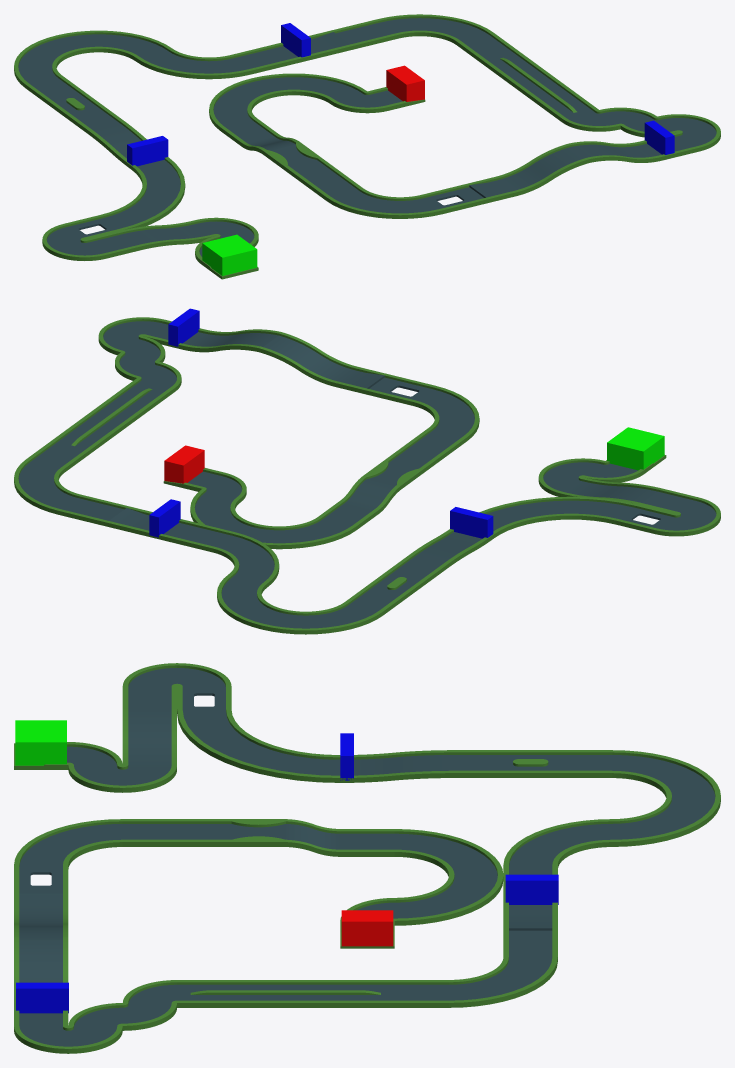
File: track1.glb
3 renders of one model, top to bottom at view 1: azimuth 30°, elevation 25°; view 2: azimuth 150°, elevation 25°; view 3: azimuth 270°, elevation 25°, orthographic. The views are drawn at different scales.
Visible parts, largest first — view 1: bend_large (×7), straight (×11), bend (×8), slope_smoothD_long (×2), bend_larger%, checkpoint_block (×3), straight_slope (×2), straight_mid (×2), straight_midEnd (×2), start_block, slope_smoothB_long, straight_hole (×2) (+6 smaller); view 2: bend_large (×7), straight (×10), bend (×11), slope_smoothD_long (×2), bend_larger%, checkpoint_block (×3), straight_slope (×2), straight_mid (×2), straight_midEnd (×2), start_block, straight_hole (×2), slope_smoothA_long (+6 smaller); view 3: bend_large (×7), straight (×9), bend (×10), bend_larger%, checkpoint_block (×3), slope_smoothD_long (×2), slope_smoothB_long, straight_midEnd (×2), straight_mid (×2), slope_smoothA_long, straight_slope (×2), start_block (+5 smaller).
Boxes of the visible parts, x1=… form: bend_large (×7): x1=14, y1=14, x2=492, y2=218; straight (×11): x1=25, y1=19, x2=699, y2=258; bend (×8): x1=42, y1=91, x2=720, y2=260; slope_smoothD_long (×2): x1=495, y1=141, x2=662, y2=196; bend_larger%: x1=101, y1=157, x2=185, y2=230; checkpoint_block (×3): x1=127, y1=23, x2=674, y2=166; straight_slope (×2): x1=308, y1=28, x2=515, y2=204; straight_mid (×2): x1=499, y1=63, x2=577, y2=106; straight_midEnd (×2): x1=477, y1=48, x2=598, y2=122; start_block: x1=202, y1=234, x2=257, y2=275; slope_smoothB_long: x1=122, y1=220, x2=215, y2=249; straight_hole (×2): x1=64, y1=186, x2=479, y2=239; bend_large (×7): x1=14, y1=385, x2=479, y2=634; straight (×10): x1=26, y1=427, x2=698, y2=615; bend (×11): x1=98, y1=317, x2=720, y2=536; slope_smoothD_long (×2): x1=181, y1=329, x2=357, y2=386; bend_larger%: x1=479, y1=496, x2=637, y2=537; checkpoint_block (×3): x1=149, y1=308, x2=493, y2=538; straight_slope (×2): x1=97, y1=367, x2=395, y2=533; straight_mid (×2): x1=70, y1=394, x2=153, y2=439; straight_midEnd (×2): x1=48, y1=378, x2=175, y2=455; start_block: x1=607, y1=427, x2=664, y2=470; straight_hole (×2): x1=374, y1=376, x2=675, y2=533; slope_smoothA_long: x1=411, y1=529, x2=494, y2=566; bend_large (×7): x1=14, y1=750, x2=720, y2=1007; straight (×9): x1=14, y1=686, x2=612, y2=1028; bend (×10): x1=14, y1=663, x2=231, y2=1053; bend_larger%: x1=177, y1=709, x2=340, y2=782; checkpoint_block (×3): x1=16, y1=733, x2=558, y2=1013; slope_smoothD_long (×2): x1=14, y1=911, x2=68, y2=1002; slope_smoothB_long: x1=122, y1=709, x2=176, y2=767; straight_midEnd (×2): x1=177, y1=980, x2=394, y2=1007; straight_mid (×2): x1=231, y1=980, x2=340, y2=1007; slope_smoothA_long: x1=340, y1=750, x2=448, y2=782; straight_slope (×2): x1=14, y1=888, x2=557, y2=936; start_block: x1=15, y1=720, x2=66, y2=765.
Bounding box in the file's own units: 34 × 1.7 × 26.
